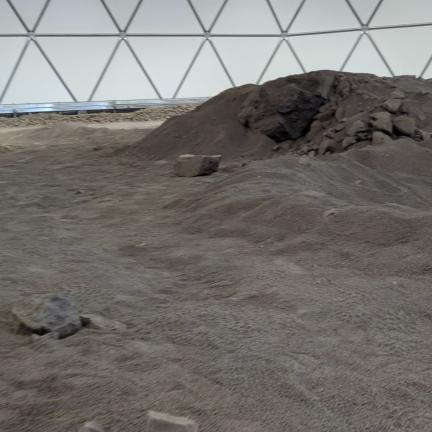Rock: (238, 82, 324, 142), (12, 294, 82, 338), (173, 154, 221, 177), (147, 411, 198, 431), (371, 112, 393, 134), (393, 116, 415, 136), (346, 120, 368, 136), (382, 99, 401, 113), (318, 140, 335, 155), (316, 108, 334, 122), (79, 421, 104, 431), (342, 137, 357, 149), (323, 208, 341, 217), (390, 90, 404, 99), (300, 145, 314, 154), (421, 131, 431, 140), (323, 130, 334, 138), (334, 124, 344, 131), (273, 145, 282, 151), (242, 161, 249, 166), (362, 96, 369, 100)
